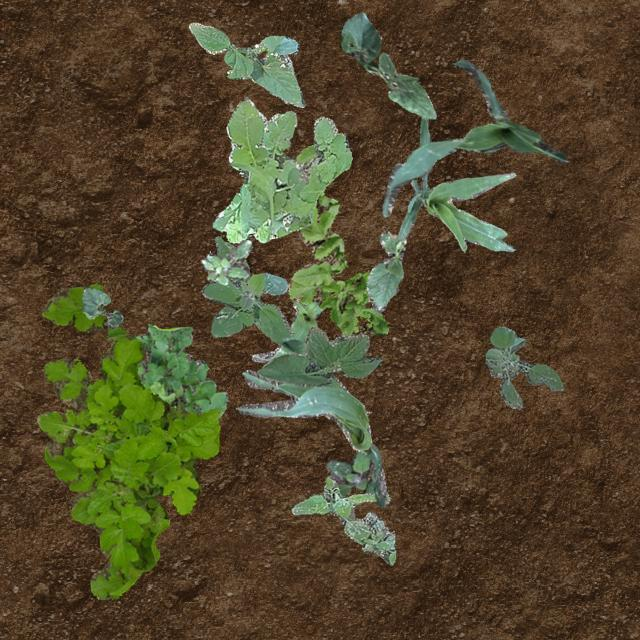crop: (380, 58, 568, 216), (236, 336, 386, 507), (396, 117, 514, 250), (340, 10, 436, 119), (188, 22, 304, 106), (256, 326, 382, 386), (250, 299, 322, 362), (366, 230, 404, 312), (80, 288, 121, 328)
weed: (36, 282, 220, 598), (212, 96, 352, 242), (286, 143, 388, 334), (200, 236, 292, 350), (290, 474, 394, 564), (130, 322, 227, 416), (484, 326, 564, 408), (200, 238, 252, 284), (326, 449, 374, 494)
